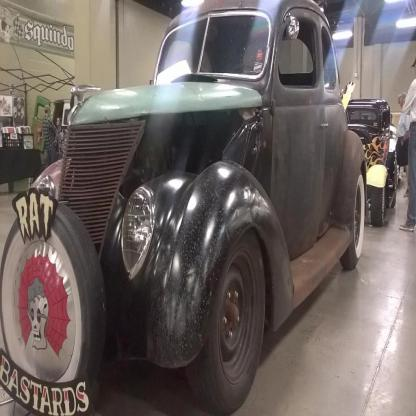Car: (0, 0, 368, 415), (340, 82, 397, 226)
